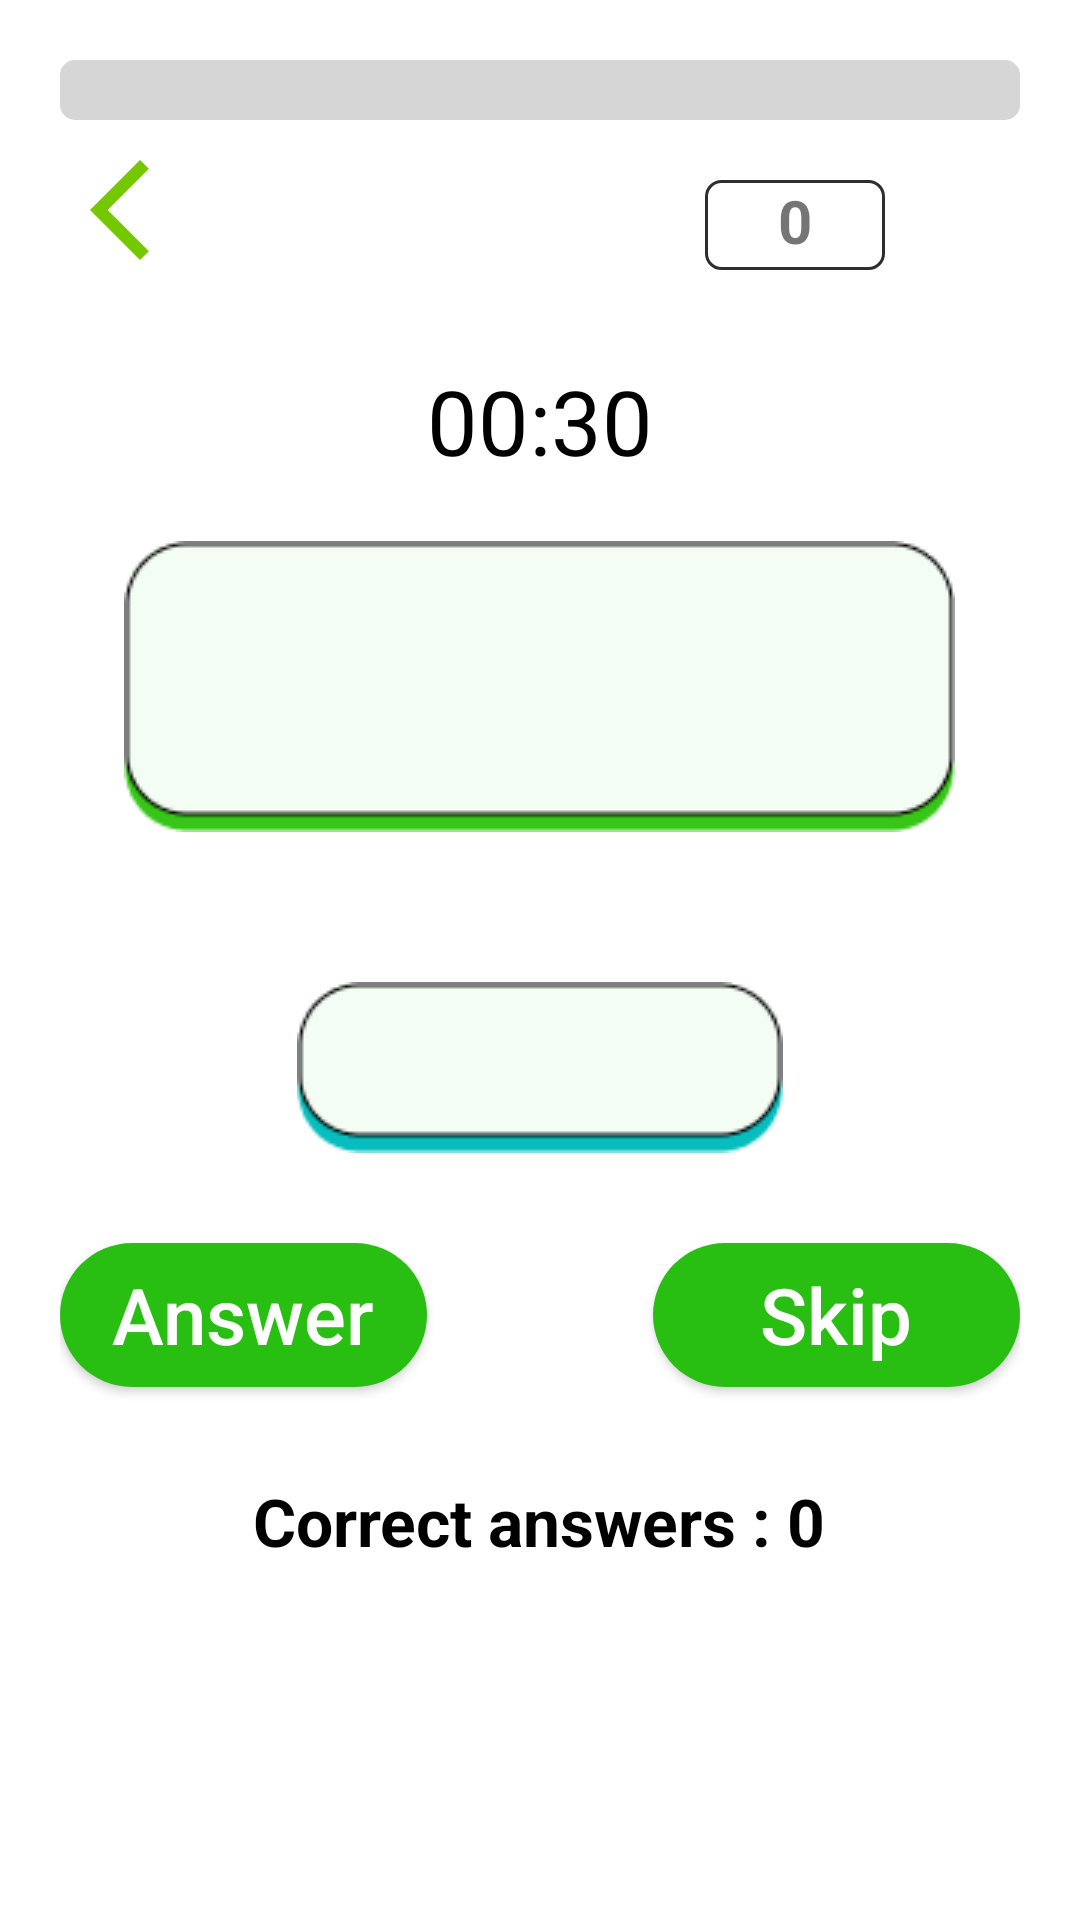

Named icons in this screenshot (1080px x 1920px) and their bounding boxes, bbox(x1, y1, x2, y2):
back: bbox(90, 160, 149, 260)
